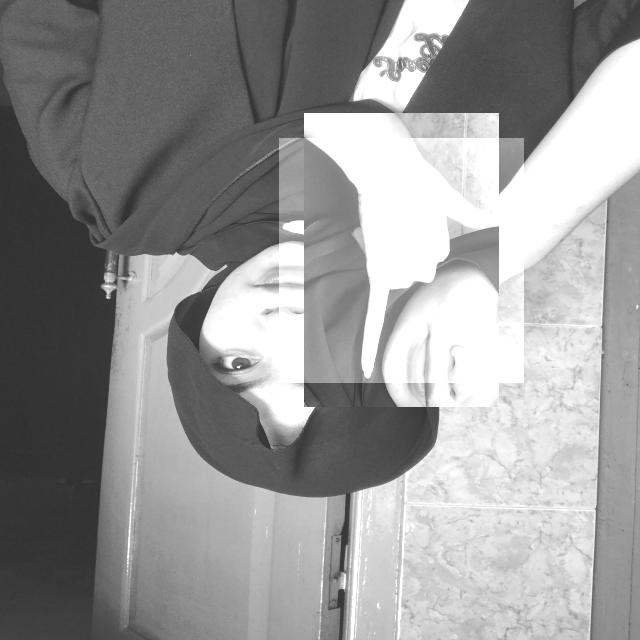telpon: (279, 138, 524, 383)
